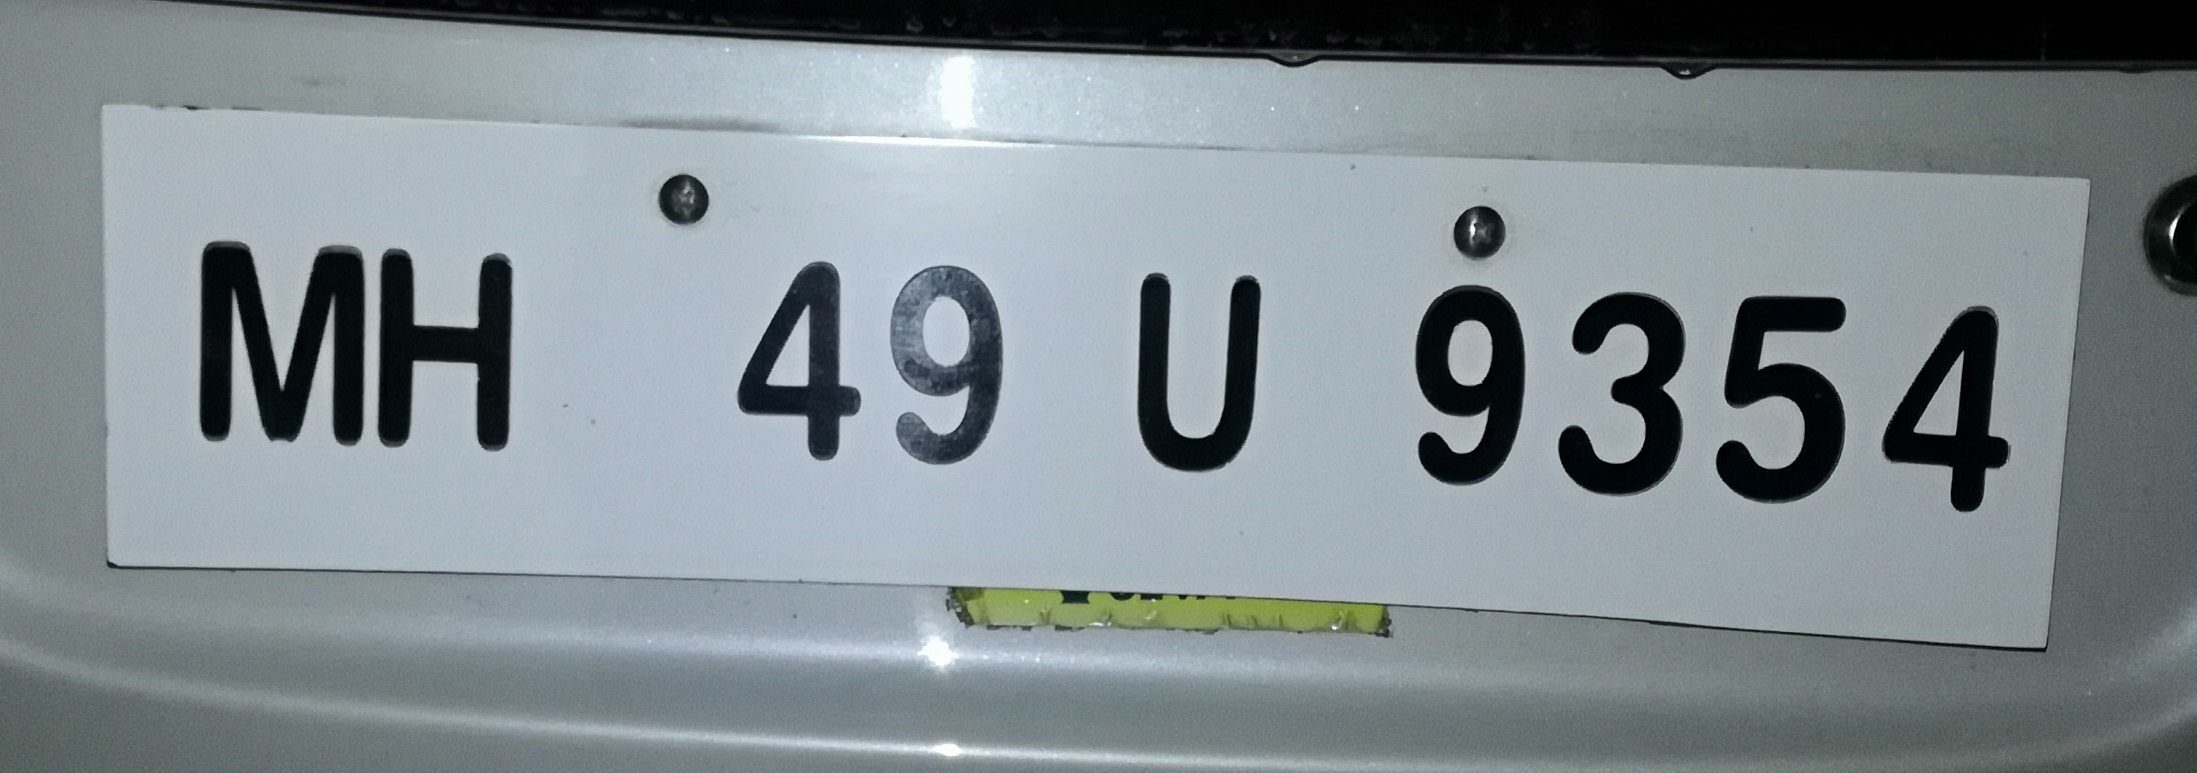numberplate: (92, 96, 2070, 665)
